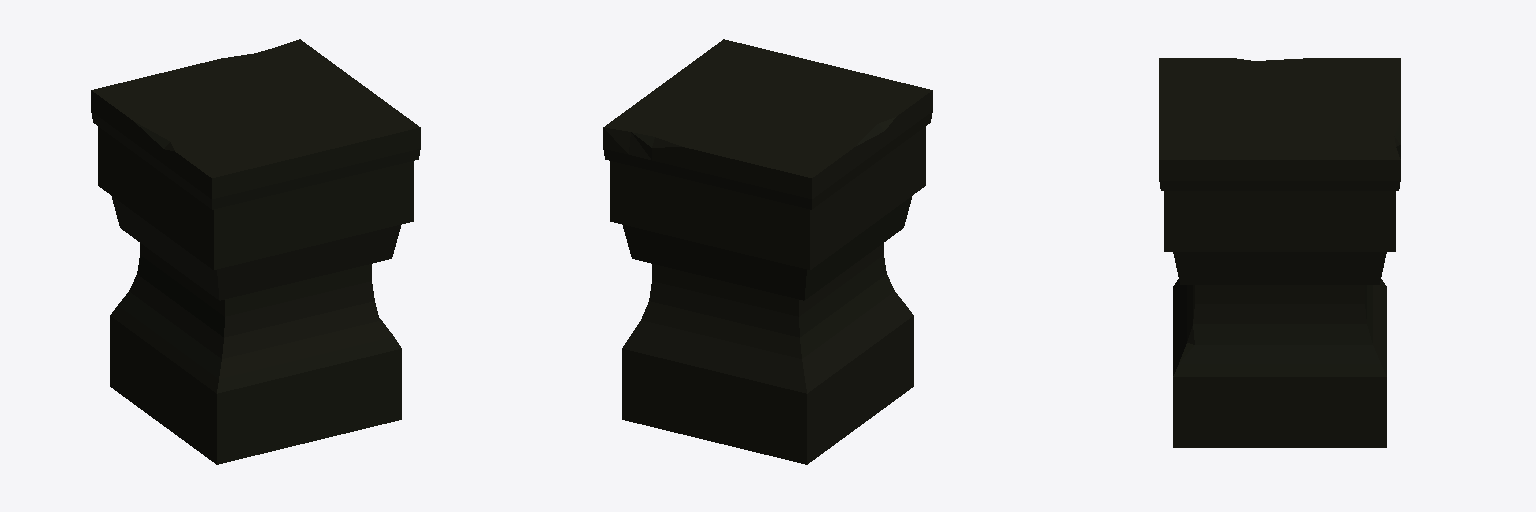
File: Rail_Divider.obj
The picture shows the model from 3 angles: view 1: azimuth 30°, elevation 25°; view 2: azimuth 150°, elevation 25°; view 3: azimuth 270°, elevation 25°; orthographic projection.
Parts seen in each view (by area): view 1: Rail_Divider_Cylinder.035; view 2: Rail_Divider_Cylinder.035; view 3: Rail_Divider_Cylinder.035.
Boxes of the visible parts, box(x1,y1,x2,y2) form: Rail_Divider_Cylinder.035: box(91, 39, 420, 464); Rail_Divider_Cylinder.035: box(603, 39, 932, 464); Rail_Divider_Cylinder.035: box(1159, 58, 1400, 447).
Bounding box in the file's own units: 0.3626 × 0.4883 × 0.3626.